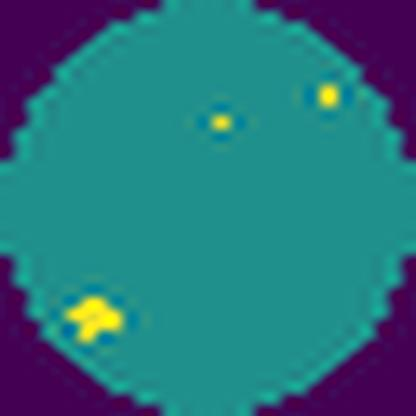Loc: (65, 290, 125, 340)
